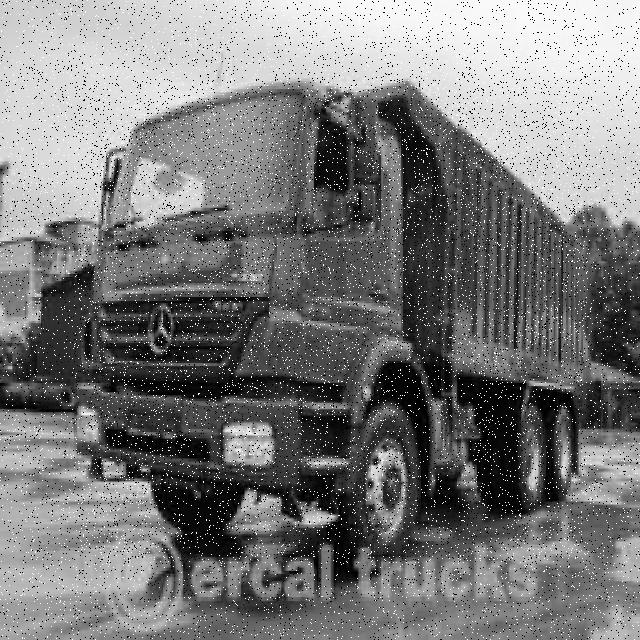Truck- Multi-Axle: (74, 79, 592, 562)
